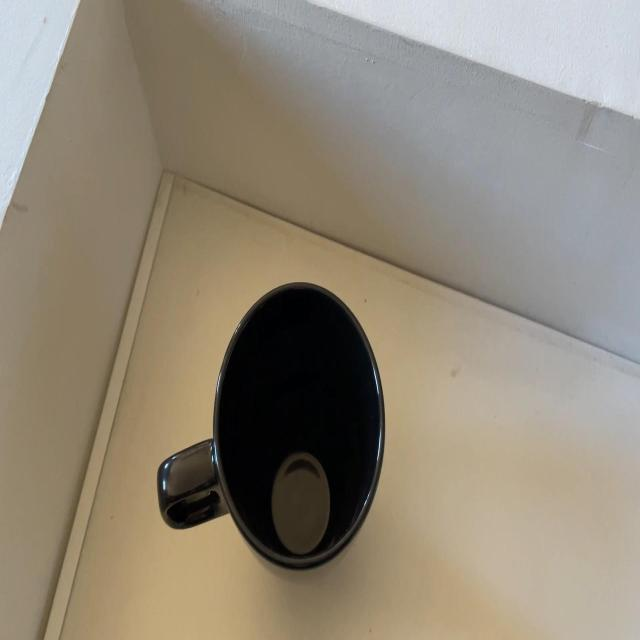cup: (157, 279, 386, 576)
